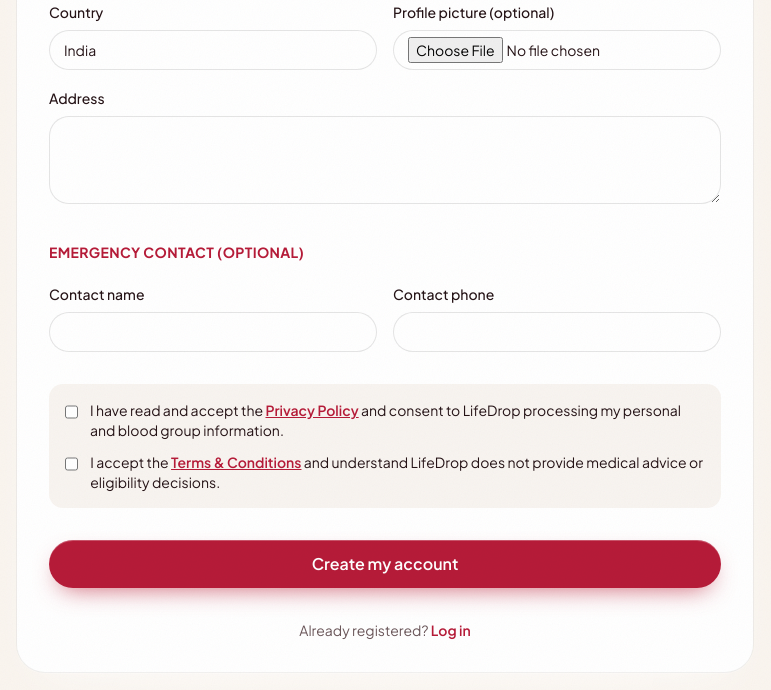
RegisterPage › requires every mandatory field and both consents
This screenshot has width=771, height=690.
(page scrolled)
Click the button "Create my account" at (385, 564), box top-left (49, 540), bottom-right (721, 588)
(page scrolled)
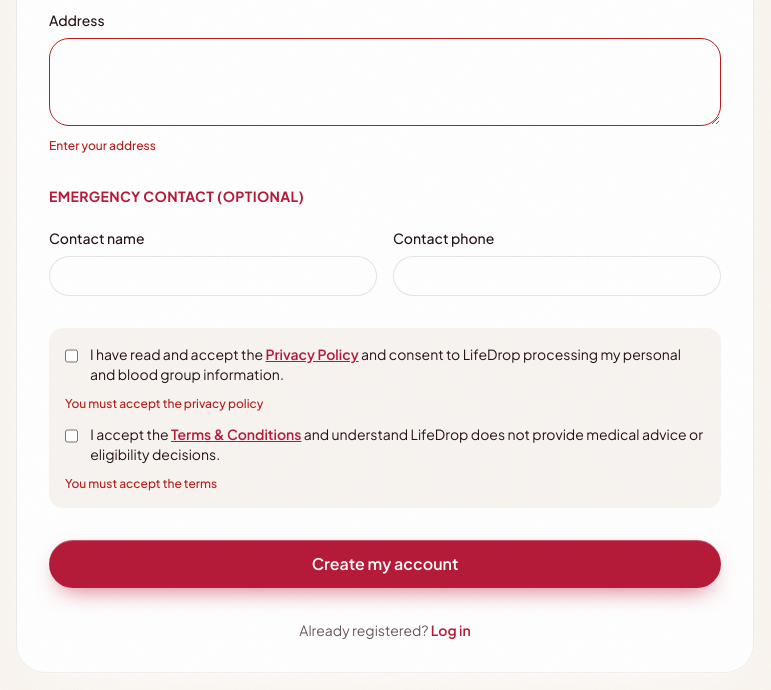
Now the text "You must accept the privacy policy" is shown, box top-left (65, 396), bottom-right (263, 411)
Now the text "You must accept the terms" is shown, box top-left (65, 476), bottom-right (217, 491)
